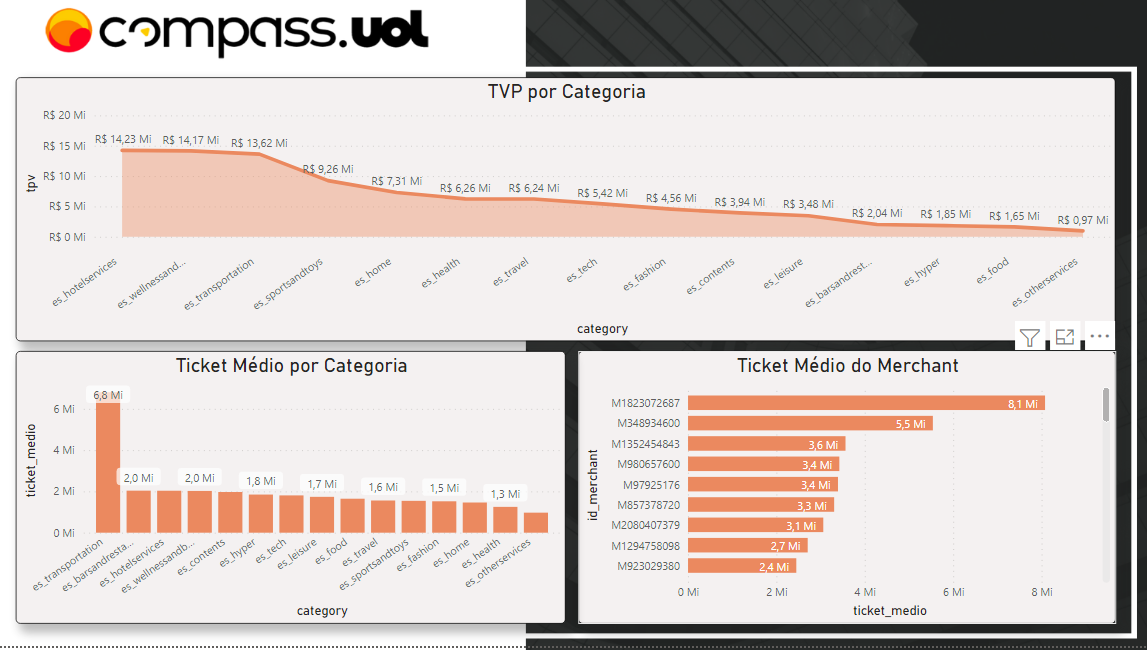

What the dashboard file says about the page in this screenshot:
{"tool":"powerbi","page":{"name":"Página 2","canvas":[1280,720],"ordinal":1},"visuals":[{"type":"stackedAreaChart","title":"TVP por Categoria","fields":{"Category":["dim_merchant_category.category"],"Y":["Sum(fact_merchant_kpi.tpv)"]},"box":[31.6,94.9,1209.9,290.1],"z":0},{"type":"clusteredBarChart","title":"Ticket Médio do Merchant","fields":{"Category":["dim_merchant_category.id_merchant"],"Y":["fact_merchant_kpi.ticket_medio"]},"box":[650.3,396,591.2,299.7],"z":1000},{"type":"lineStackedColumnComboChart","title":"Ticket Médio por Categoria","fields":{"Category":["dim_merchant_category.category"],"Y":["fact_merchant_kpi.ticket_medio"]},"box":[31.6,396,604.9,299.7],"z":2000}]}

Visuals, with their boxes in screenshot pixels (x1, y1, x2, y2), scaled from the page's 1280x720 canvas onto the 1147x650 screenshot:
"TVP por Categoria" stackedAreaChart: detection(28, 86, 1113, 348)
"Ticket Médio do Merchant" clusteredBarChart: detection(583, 358, 1113, 628)
"Ticket Médio por Categoria" lineStackedColumnComboChart: detection(28, 358, 570, 628)
